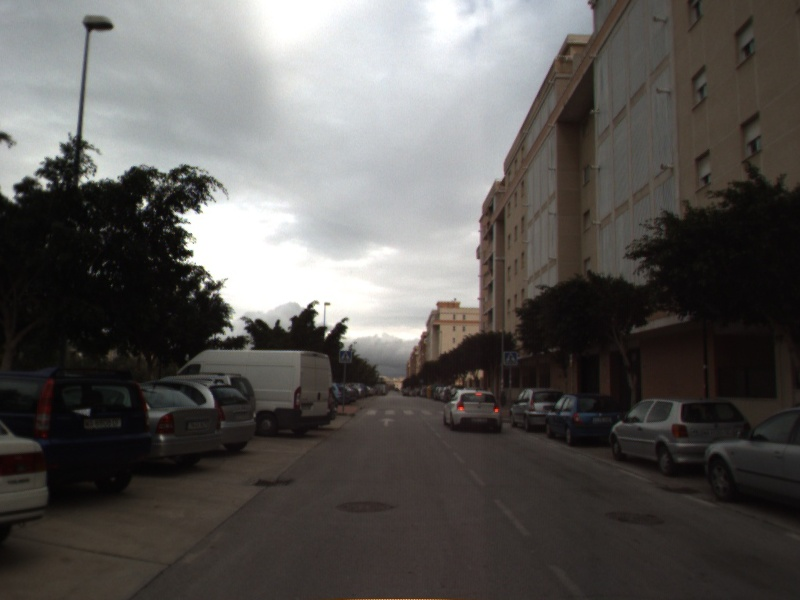STRAIGHT: (377, 415, 398, 428)
